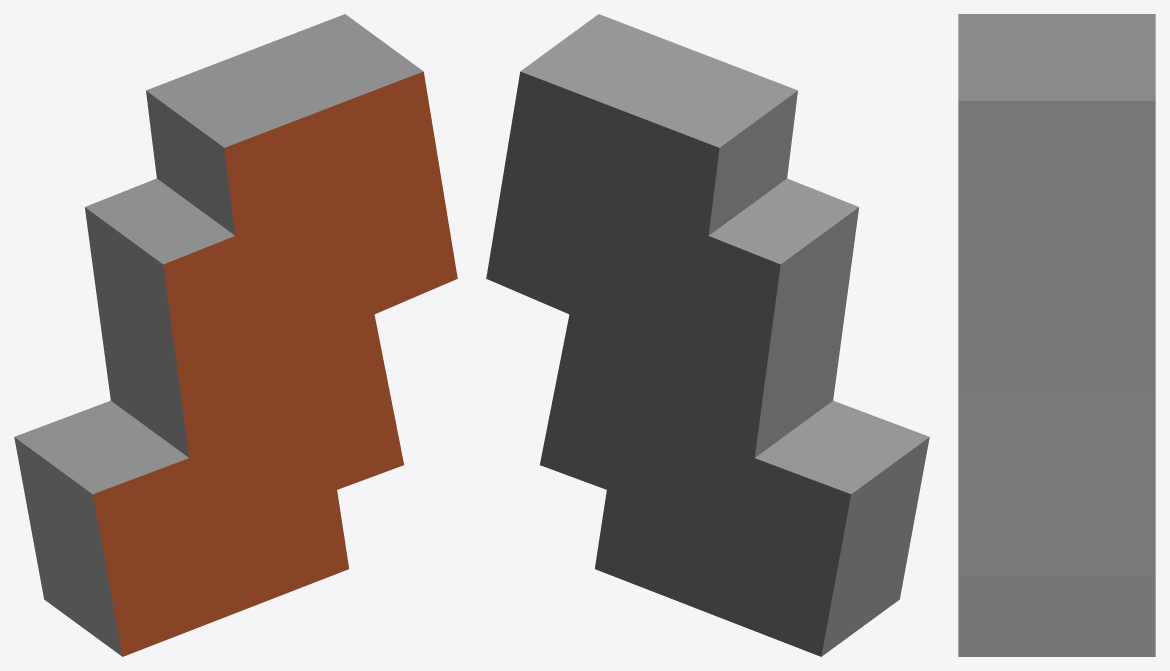
The model's file is construction_1996_assumed_A_Casa_h6m.obj.
The picture shows the model from 3 angles, left to right: view 1: azimuth 30°, elevation 25°; view 2: azimuth 150°, elevation 25°; view 3: azimuth 270°, elevation 25°; orthographic projection. The views are drawn at different scales.
Visible parts, largest first — view 1: construction_1996_assumed_A_Casa; view 2: construction_1996_assumed_A_Casa; view 3: construction_1996_assumed_A_Casa.
Part boxes in pixels (box(x1,y1,x2,y2)): construction_1996_assumed_A_Casa: box(14, 14, 457, 656); construction_1996_assumed_A_Casa: box(486, 14, 929, 656); construction_1996_assumed_A_Casa: box(958, 14, 1155, 656).
Size of the model in its own units: 16.11 by 21.59 by 6.
